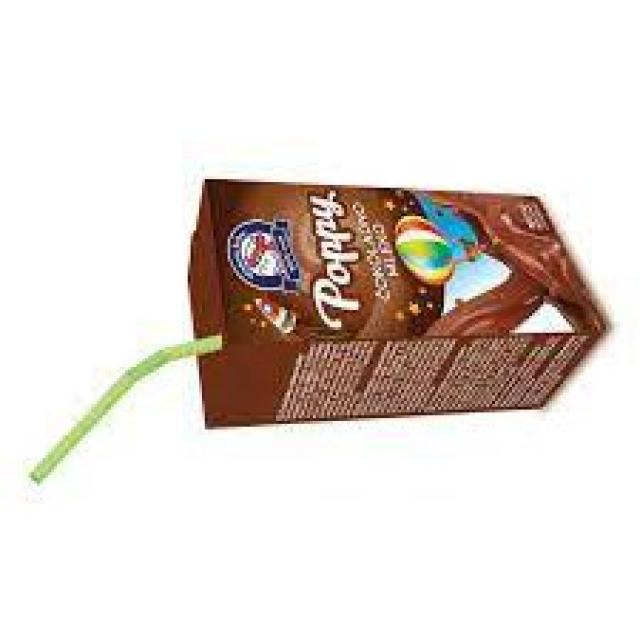non_white_jug: (182, 172, 610, 433)
